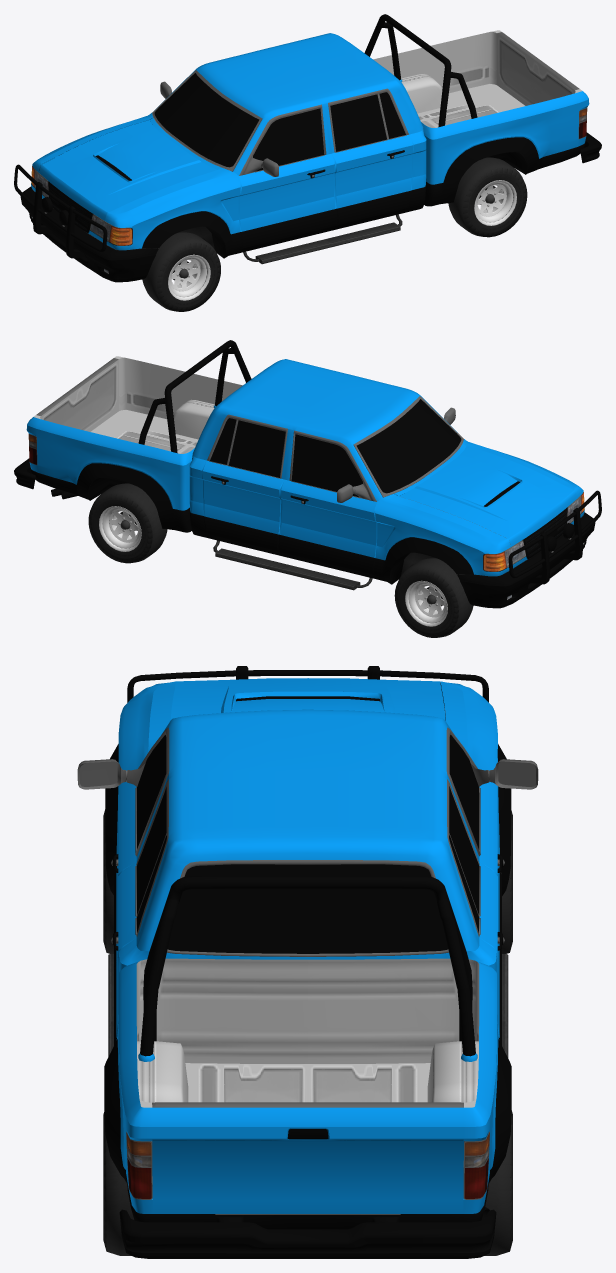
The model's file is toyota_hilux.glb.
3 views of the same model, one above another, from view 1: azimuth 30°, elevation 25°; view 2: azimuth 150°, elevation 25°; view 3: azimuth 270°, elevation 25° (orthographic). The views are drawn at different scales.
Visible parts, largest first — view 1: body_body_0, glass_glass_0, hood_body_0, trunk_doorshut_0, body_body_secondary_0, fender_left_body_0, wheel_02_tiers_0, wheel_01_tiers_0, trunk_door_doorshut_0, body_plastic_0, BOTTOM_Material #2255_0, trunk_bars_chrome_0 (+11 smaller); view 2: body_body_0, glass_glass_0, hood_body_0, trunk_doorshut_0, body_body_secondary_0, fender_left_body_0, wheel_03_tiers_0, wheel_04_tiers_0, trunk_door_doorshut_0, body_plastic_0, BOTTOM_Material #2255_0, trunk_bars_chrome_0 (+11 smaller); view 3: body_body_0, trunk_doorshut_0, trunk_door_body_0, interior_void_0, bumper_rear_02_krm_lgtbdy_chrome_0, trunk_bars_chrome_0, hood_body_0, body_plastic_0, body_body_secondary_0, glass_glass_0, fender_left_body_0, bumper_bars_chrome_0 (+8 smaller).
Boxes of the visible parts, x1,y1,x2,y2 form: body_body_0: (149, 33, 589, 231); glass_glass_0: (154, 73, 405, 171); hood_body_0: (38, 120, 216, 220); trunk_doorshut_0: (373, 30, 581, 127); body_body_secondary_0: (240, 137, 585, 252); fender_left_body_0: (31, 112, 240, 250); wheel_02_tiers_0: (448, 157, 527, 237); wheel_01_tiers_0: (142, 232, 220, 311); trunk_door_doorshut_0: (497, 33, 574, 105); body_plastic_0: (152, 70, 408, 177); BOTTOM_Material #2255_0: (86, 152, 526, 280); trunk_bars_chrome_0: (364, 14, 477, 127); body_body_0: (26, 359, 466, 557); glass_glass_0: (210, 399, 461, 497); hood_body_0: (399, 446, 576, 546); trunk_doorshut_0: (34, 356, 242, 453); body_body_secondary_0: (30, 463, 375, 578); fender_left_body_0: (375, 439, 584, 576); wheel_03_tiers_0: (88, 483, 167, 563); wheel_04_tiers_0: (394, 558, 473, 637); trunk_door_doorshut_0: (41, 359, 118, 431); body_plastic_0: (207, 396, 463, 503); BOTTOM_Material #2255_0: (36, 478, 529, 606); trunk_bars_chrome_0: (138, 340, 251, 453); body_body_0: (116, 709, 499, 1213); trunk_doorshut_0: (136, 958, 479, 1214); trunk_door_body_0: (152, 1107, 463, 1213); interior_void_0: (167, 836, 449, 953); bumper_rear_02_krm_lgtbdy_chrome_0: (119, 1209, 496, 1258); trunk_bars_chrome_0: (140, 876, 475, 1056); hood_body_0: (170, 678, 445, 719); body_plastic_0: (77, 727, 538, 956); body_body_secondary_0: (104, 872, 511, 1229); glass_glass_0: (137, 735, 479, 932); fender_left_body_0: (116, 681, 499, 867); bumper_bars_chrome_0: (127, 666, 488, 702).
Bounding box in the file's own units: 205 × 66.23 × 80.47.
Materials: 18 (7 with a texture image).
